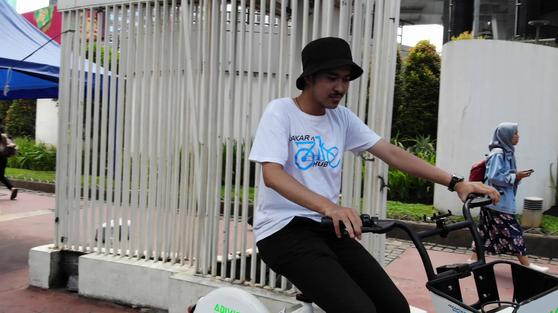bike: (312, 186, 557, 313)
